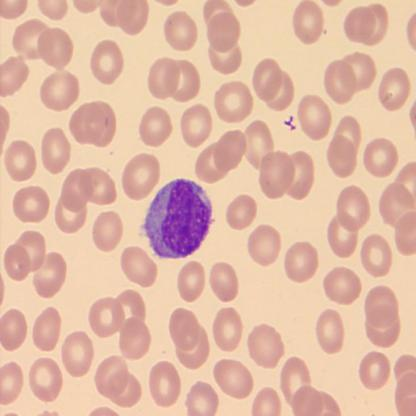Monocyte: (139, 176, 215, 261)
